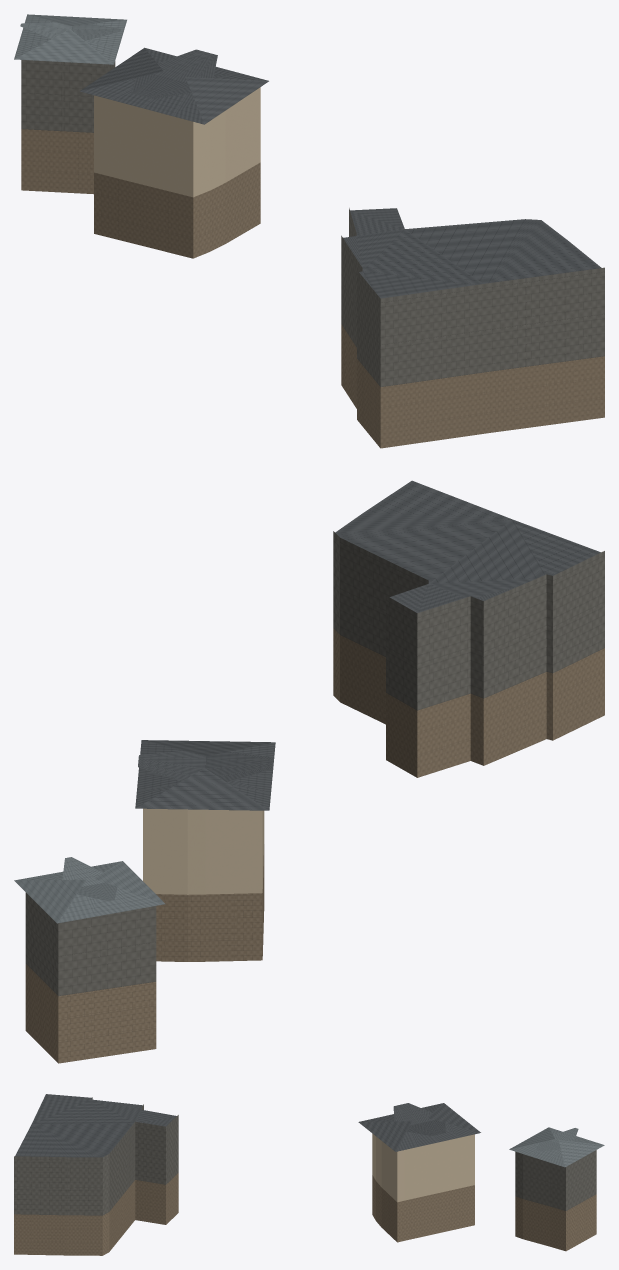
Rendered from bld_c27_-54_554.gltf.
The picture shows the model from 3 angles, top to bottom: view 1: azimuth 30°, elevation 25°; view 2: azimuth 150°, elevation 25°; view 3: azimuth 270°, elevation 25°; orthographic projection. The views are drawn at different scales.
Parts seen in each view (by area): view 1: bld_c27_-54_554; view 2: bld_c27_-54_554; view 3: bld_c27_-54_554.
Boxes of the visible parts, x1,y1,x2,y2 form: bld_c27_-54_554: [14, 14, 604, 448]; bld_c27_-54_554: [14, 480, 604, 1063]; bld_c27_-54_554: [14, 1094, 604, 1255].
Size of the model in its own units: 17.77 by 14.88 by 67.94.
6 materials, 6 textured.
